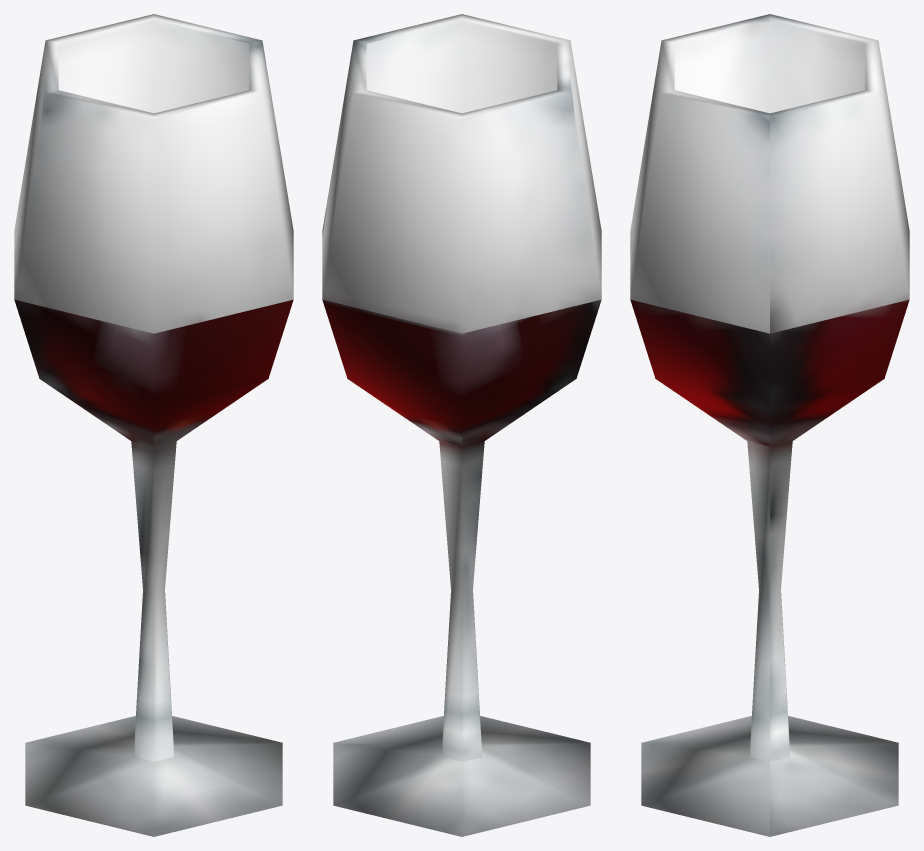
Rendered from WineInGlass.fbx.
3 renders of one model, left to right at view 1: azimuth 30°, elevation 25°; view 2: azimuth 150°, elevation 25°; view 3: azimuth 270°, elevation 25°, orthographic.
Parts seen in each view (by area): view 1: Beer&Wine.019; view 2: Beer&Wine.019; view 3: Beer&Wine.019.
Part boxes in pixels (x1=…): Beer&Wine.019: x1=14, y1=14, x2=293, y2=836; Beer&Wine.019: x1=322, y1=14, x2=601, y2=836; Beer&Wine.019: x1=630, y1=14, x2=909, y2=836.
Bounding box in the file's own units: 0.1012 × 0.2447 × 0.0876.
